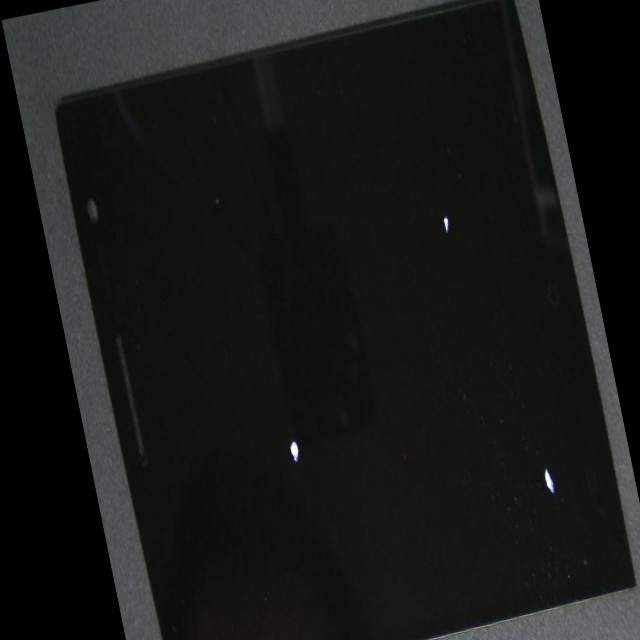stain: (241, 163, 640, 640), (142, 131, 424, 640), (256, 103, 610, 414)
